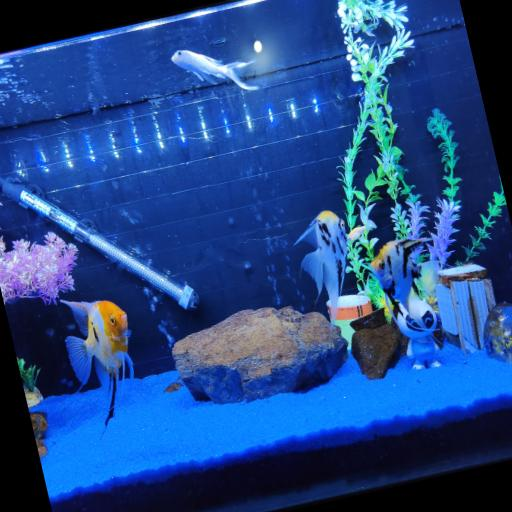Fish: (60, 300, 132, 426), (294, 211, 364, 325), (370, 238, 441, 344), (171, 50, 257, 90)
